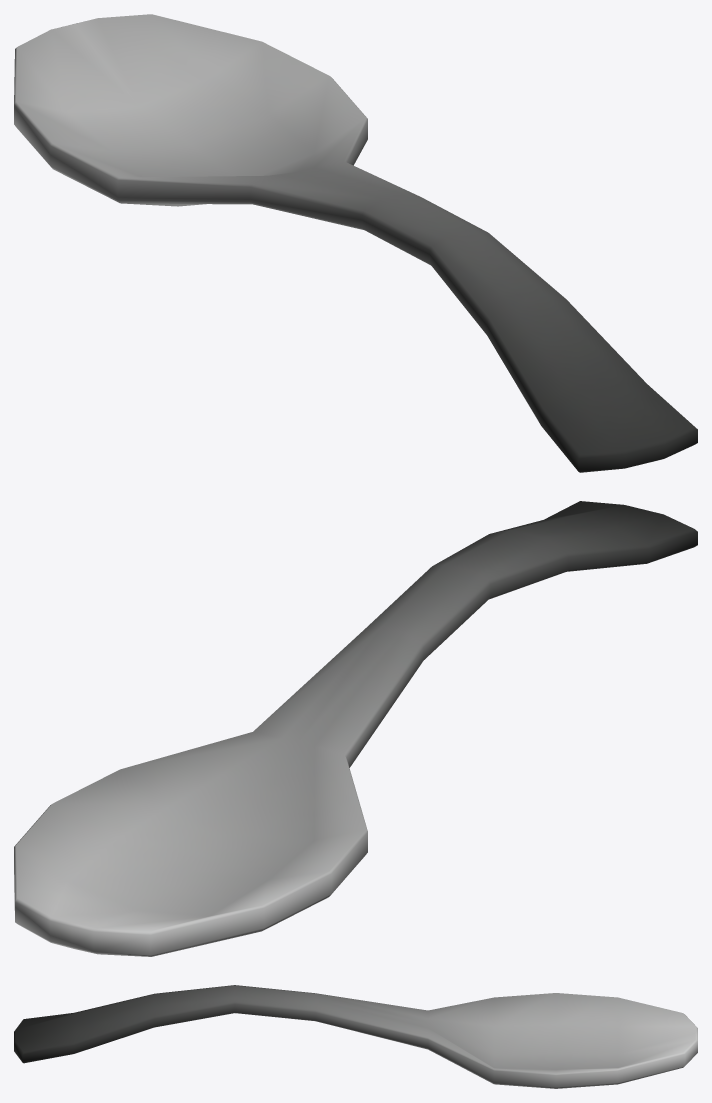
File: tools_spoon.fbx
The picture shows the model from 3 angles, top to bottom: view 1: azimuth 30°, elevation 25°; view 2: azimuth 150°, elevation 25°; view 3: azimuth 270°, elevation 25°; orthographic projection. The views are drawn at different scales.
Parts seen in each view (by area): view 1: tools_spoon; view 2: tools_spoon; view 3: tools_spoon.
Boxes of the visible parts, <box> form: tools_spoon: <box>14,14,697,472</box>; tools_spoon: <box>14,501,697,956</box>; tools_spoon: <box>14,985,697,1088</box>.
Size of the model in its own units: 4.05 by 1.76 by 14.31.
